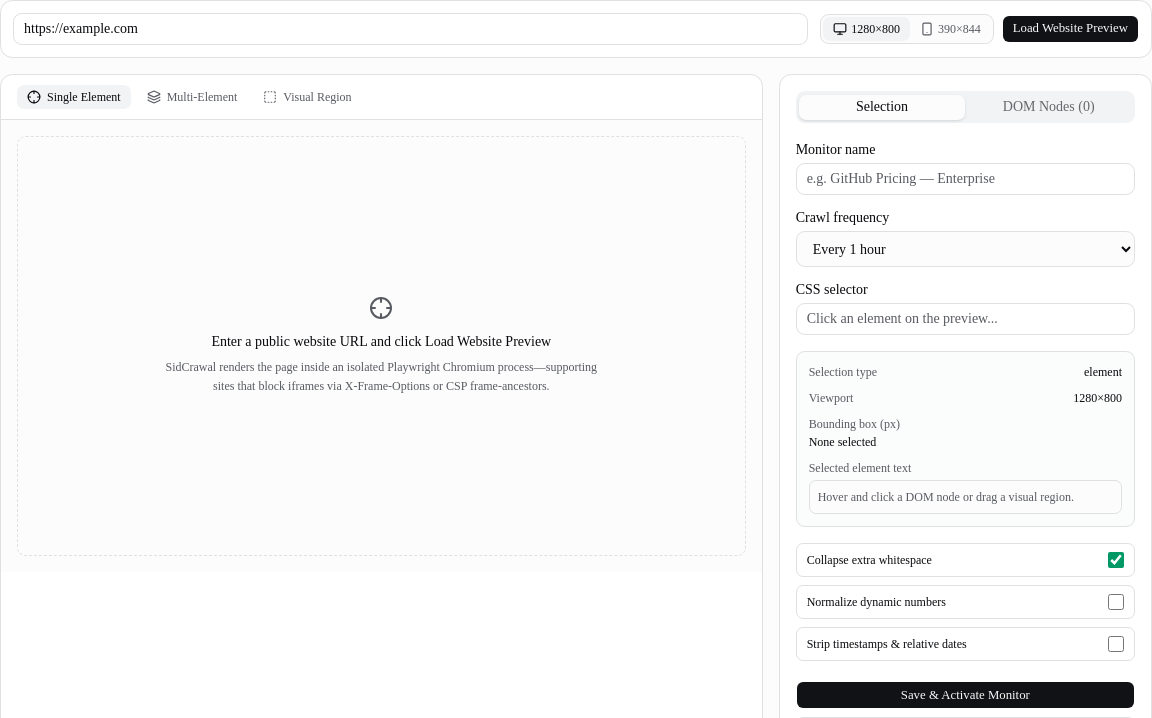
Test: WorkspaceStudio UI › renders blocked website diagnostic banner for 422 BLOCKED_BY_CHALLENGE
Click the button "Load Website Preview".
click(1070, 29)  # box [1002, 15, 1139, 43]
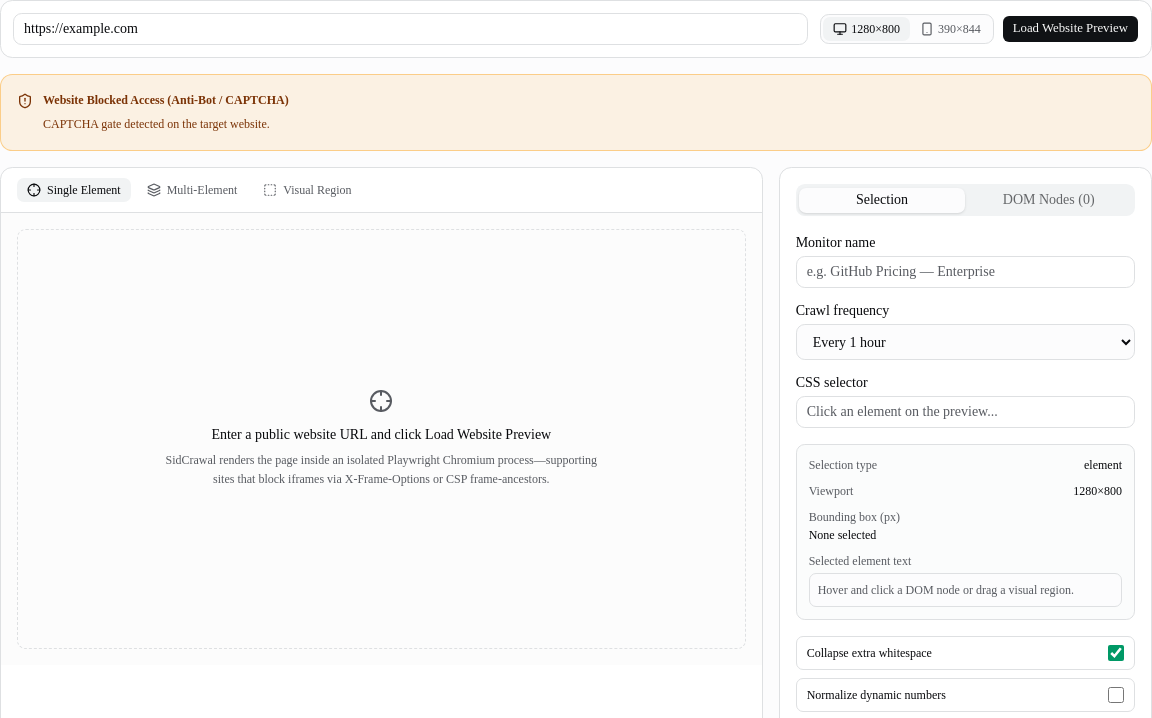
Check: the message shows "Website Blocked Access", box [43, 93, 289, 107]
